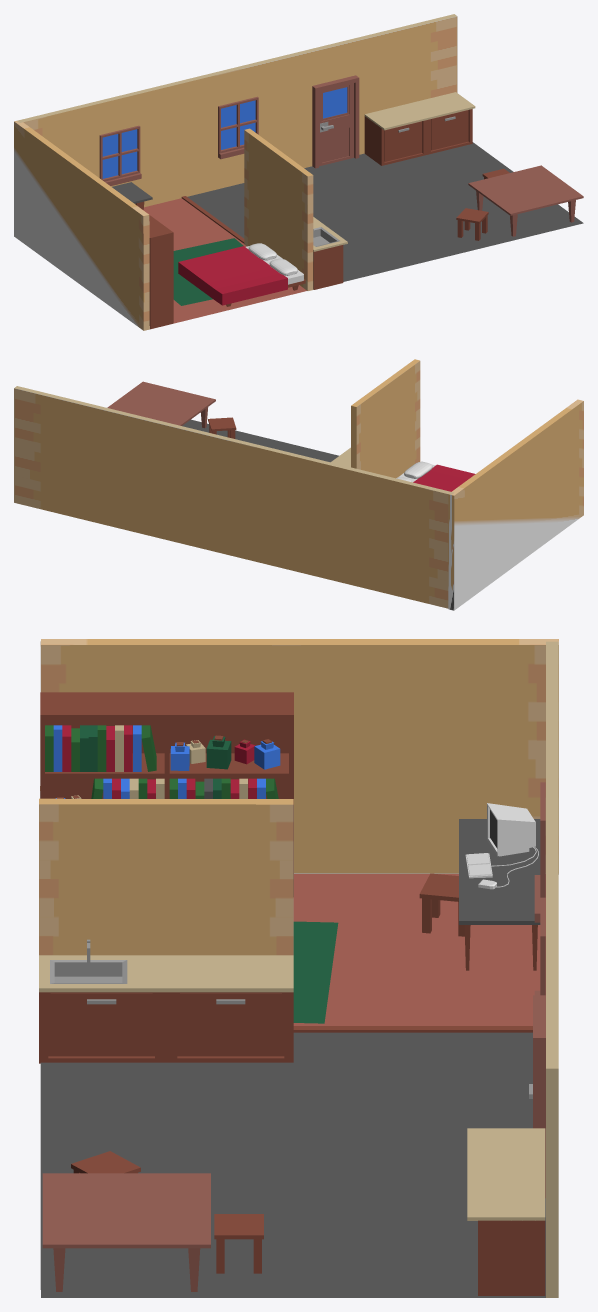
The model's file is HouseZone.glb.
The picture shows the model from 3 angles, top to bottom: view 1: azimuth 30°, elevation 25°; view 2: azimuth 150°, elevation 25°; view 3: azimuth 270°, elevation 25°; orthographic projection. The views are drawn at different scales.
Visible parts, largest first — view 1: wallback, house, wall left, wallSink, bed, table.002, door, desk; view 2: wallback, wall left, wallSink, table.002, bed, house; view 3: house, wall left, wallSink, wallback, table.002, desk, pc, door.
Boxes of the visible parts, <box> form: wallback: <box>17,14,475,207</box>; house: <box>143,142,583,328</box>; wall left: <box>14,121,173,330</box>; wallSink: <box>244,128,347,290</box>; bed: <box>178,243,305,306</box>; table.002: <box>456,165,583,240</box>; door: <box>312,75,359,168</box>; desk: <box>112,182,152,209</box>; wallback: <box>14,386,454,608</box>; wall left: <box>448,399,583,610</box>; wallSink: <box>331,359,420,478</box>; table.002: <box>107,381,236,438</box>; bed: <box>396,461,475,491</box>; house: <box>182,419,338,462</box>; house: <box>40,874,545,1297</box>; wall left: <box>40,639,558,896</box>; wallSink: <box>39,798,293,1063</box>; wallback: <box>467,641,558,1297</box>; table.002: <box>42,1151,263,1291</box>; desk: <box>419,819,540,970</box>; pc: <box>465,803,538,889</box>; door: <box>529,995,545,1198</box>.
Bounding box in the file's own units: 12.07 × 3.02 × 6.17.
16 materials, 1 textured.
